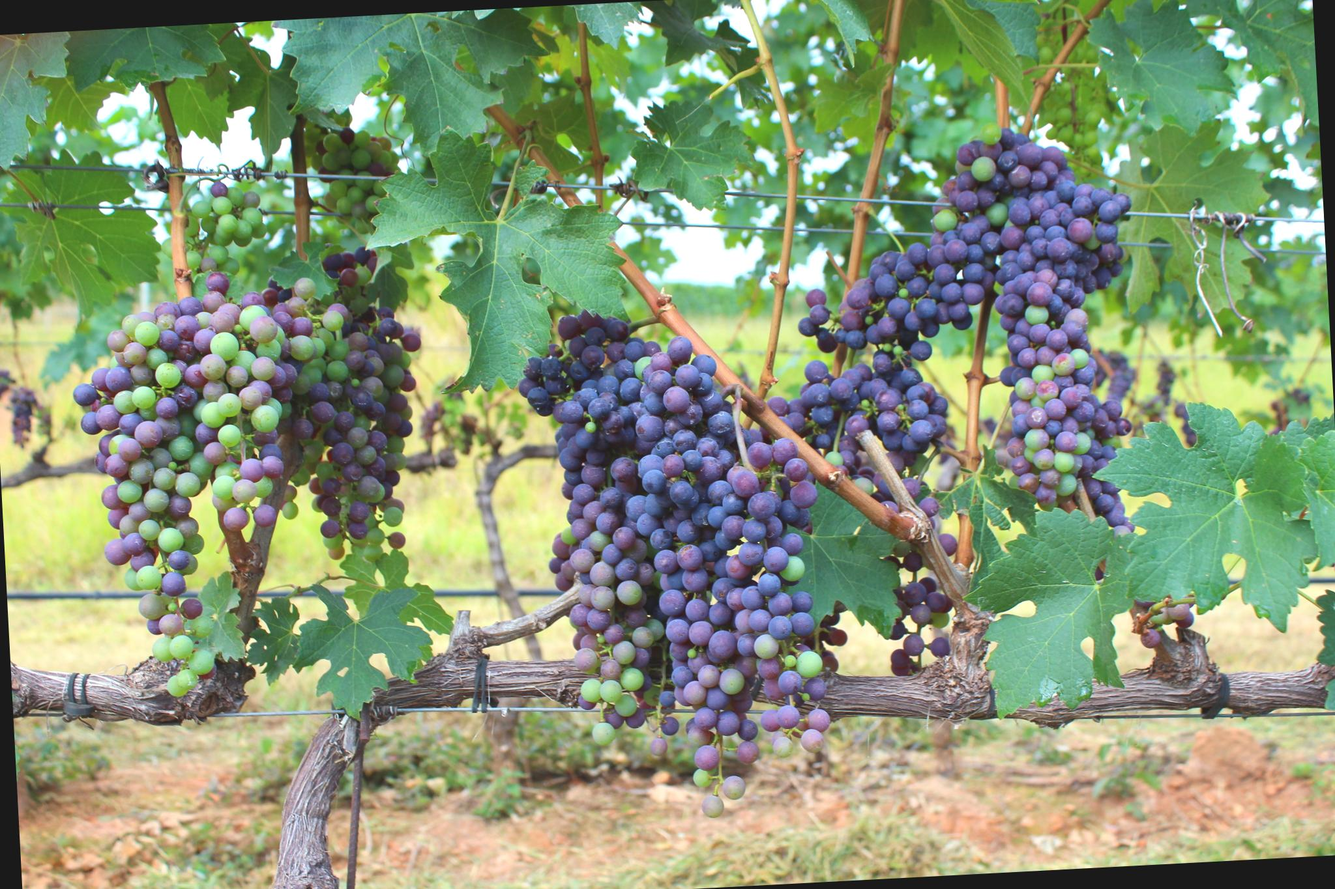Grape Ripe: (791, 139, 1077, 360), (636, 342, 768, 820), (765, 352, 952, 518)
